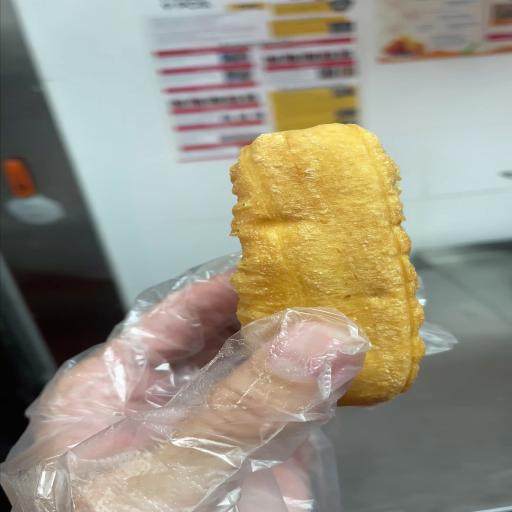brand_golden_good: (230, 124, 424, 405)
